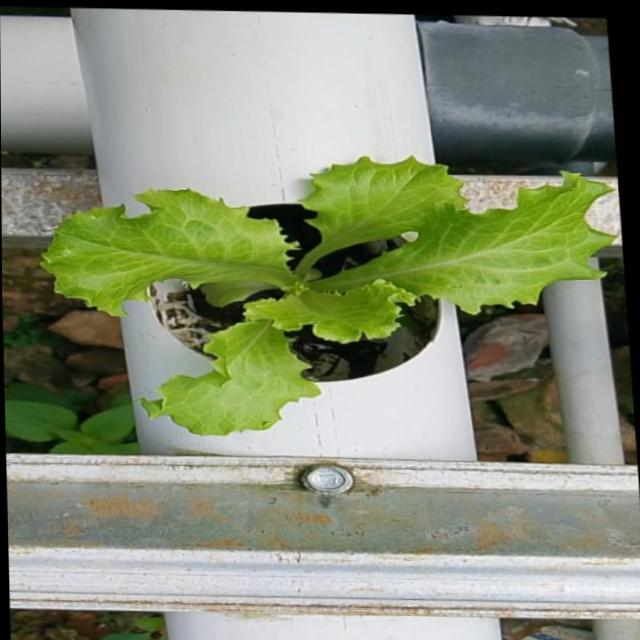Baby: (44, 156, 618, 434)
